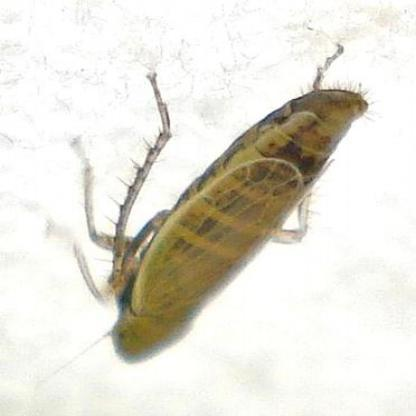green-leafhopper: (102, 75, 367, 365)
